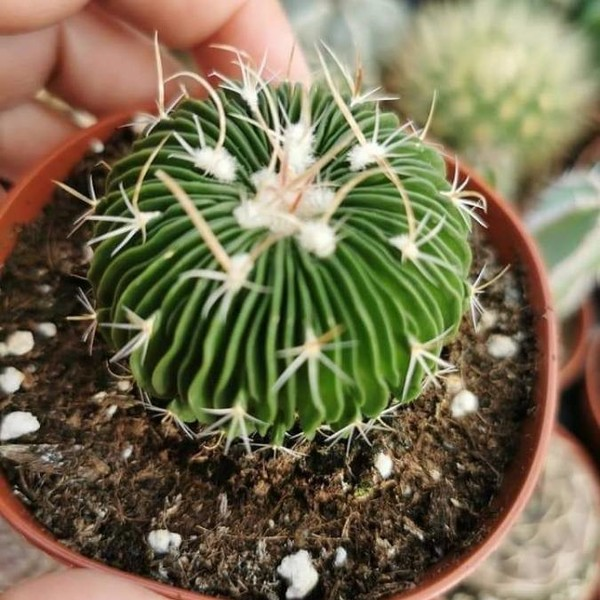obstacle: (22, 42, 574, 579)
